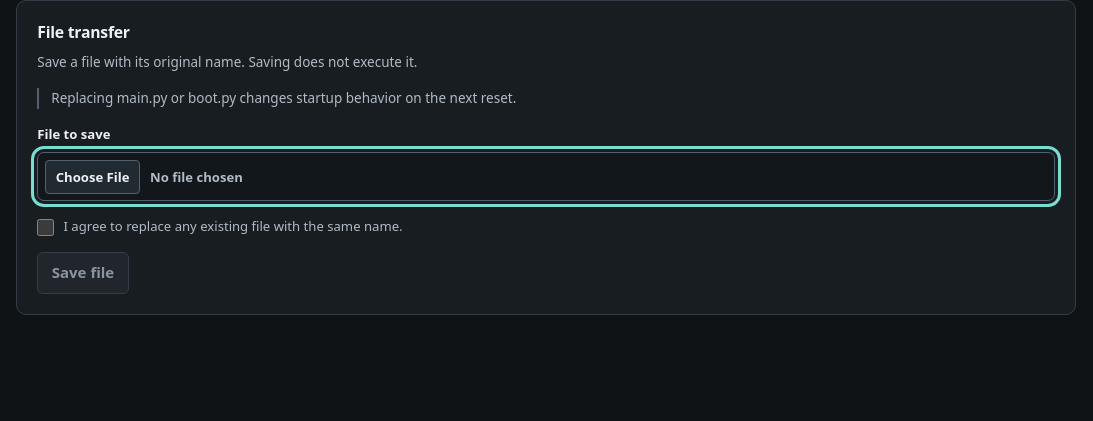
Test: single file transfer › retains selection on abort, reports errors inline and prevents duplicate saves
Earlier steps of the test are not shown.
Later steps or results of the test are not shown.
Click the checkbox. click: (46, 228)
box: [37,220,54,236]
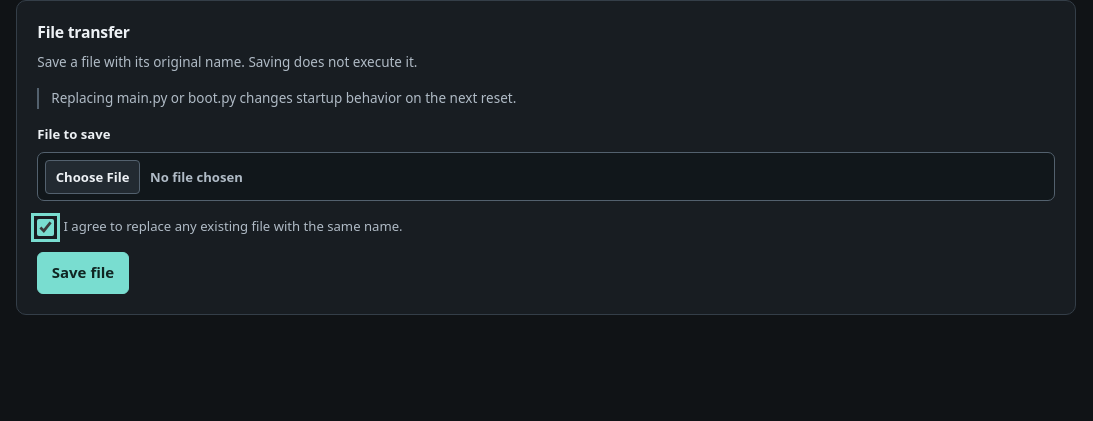
Click the button "Save file". click: (83, 273)
box: [37,252,129,294]
Click the button "Save file". click: (83, 273)
box: [37,252,129,294]
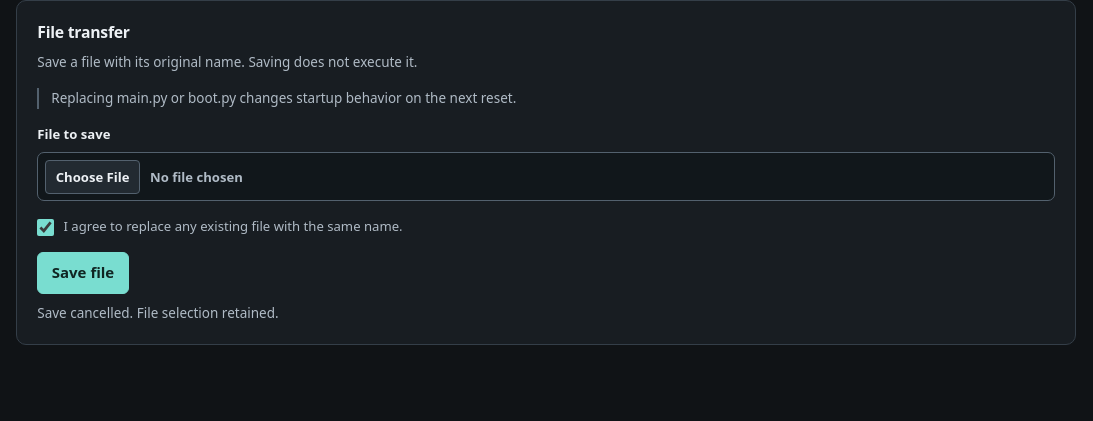
Click the button "Save file". click: (83, 273)
box: [37,252,129,294]
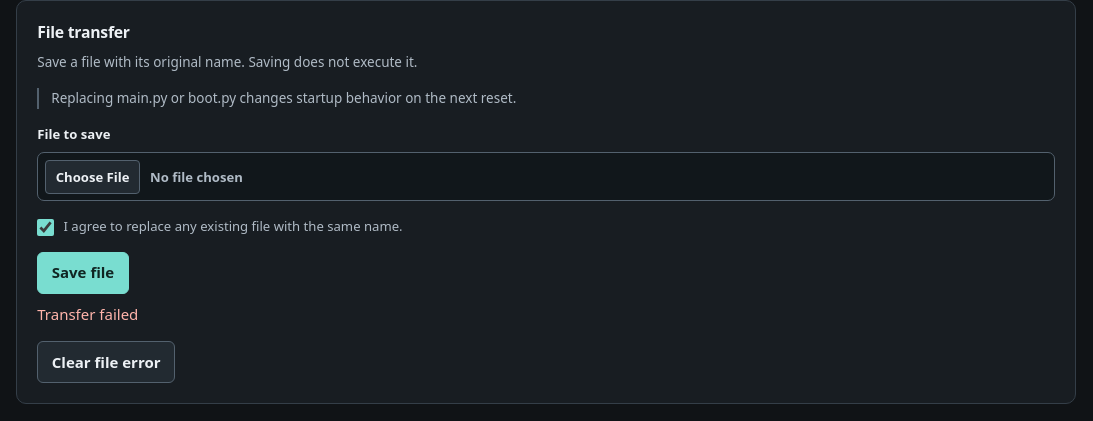
Expected: the message reads "Transfer failed", [37,304,138,324]
Click the button "Clear file error". click: (106, 362)
box: [37,341,175,383]
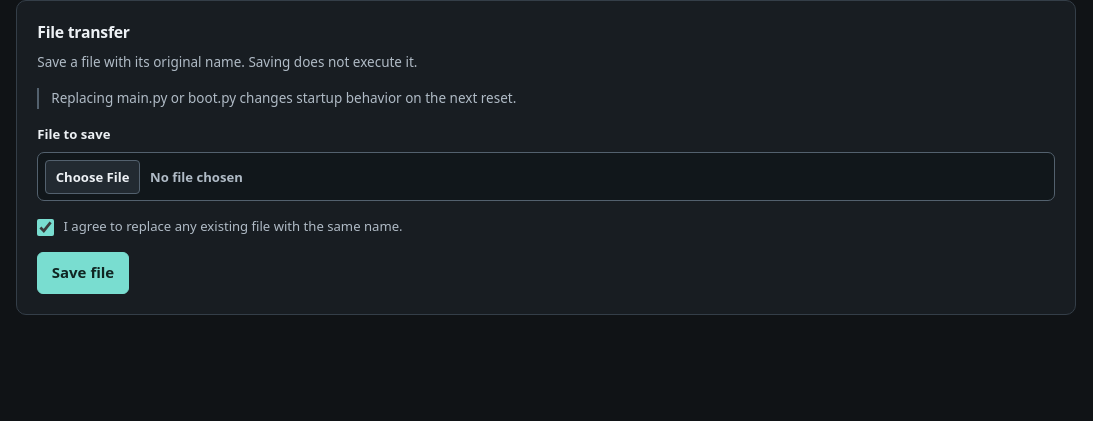
Expected: the message "Transfer failed" is gone
